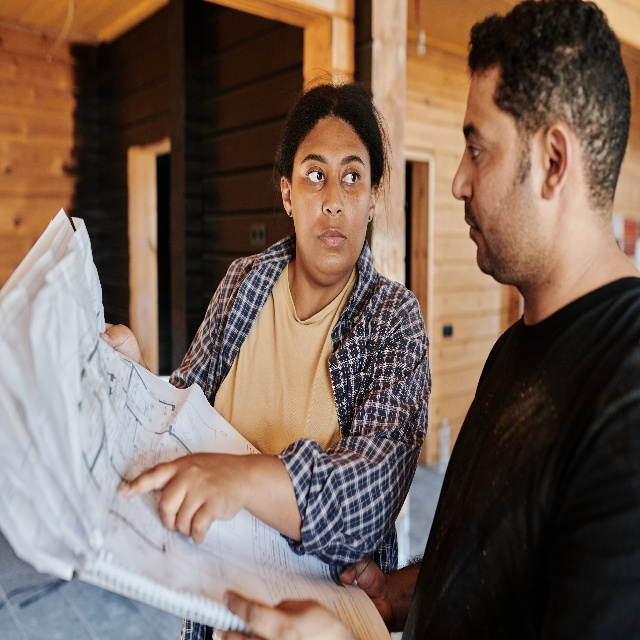Sin_guantes: (119, 451, 246, 543), (212, 590, 356, 640), (339, 560, 394, 631), (100, 321, 143, 366)
